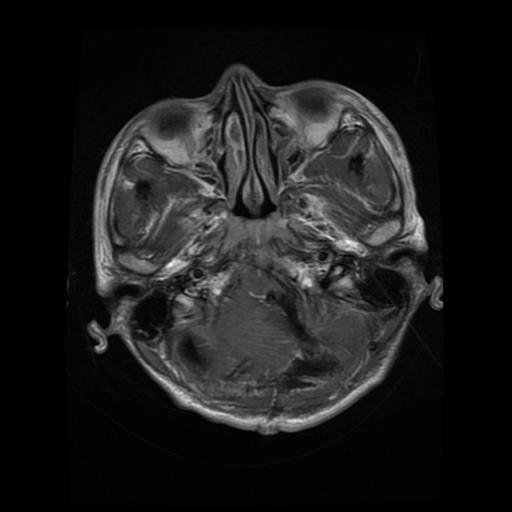Tumour-Glioma: (162, 316, 244, 395)
